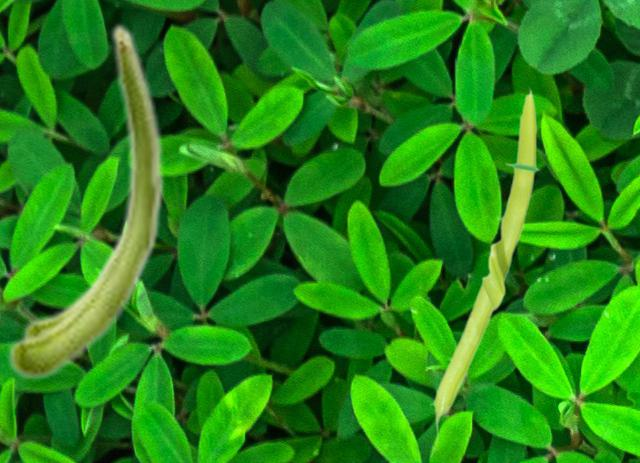french_bean: (6, 21, 162, 380), (21, 28, 165, 336), (429, 85, 540, 458)
